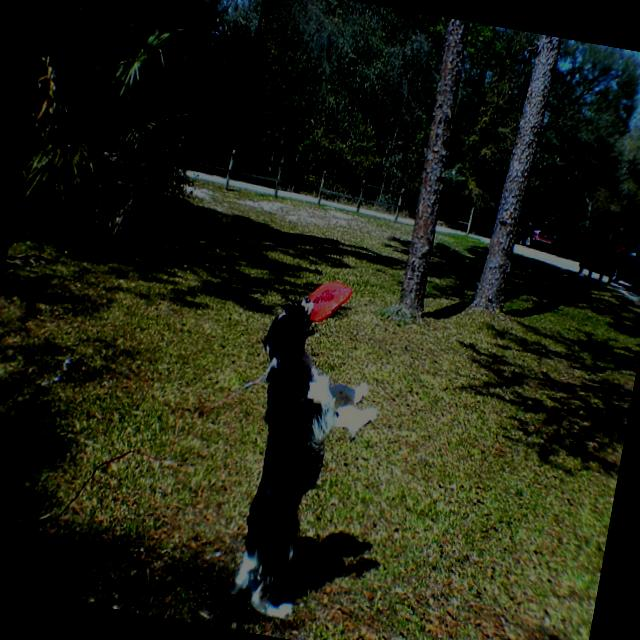Vehicle: (575, 232, 640, 291), (516, 212, 560, 253), (609, 239, 640, 292)
